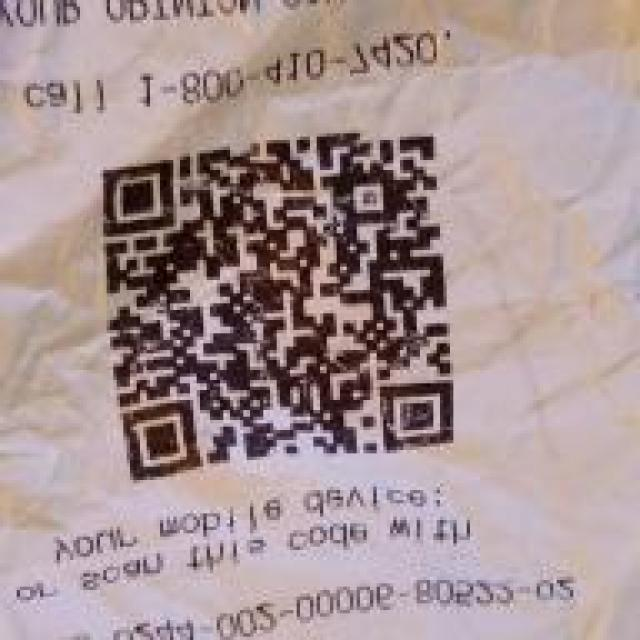qr_code: (102, 130, 454, 480)
